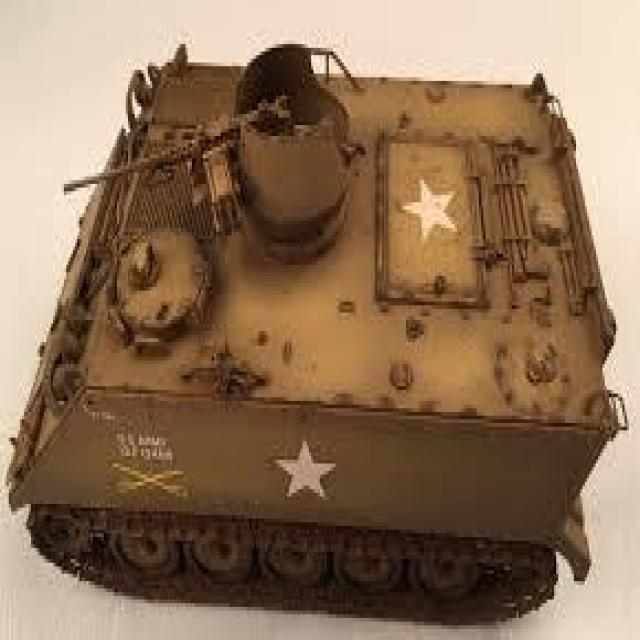MIL_MBT: (7, 42, 614, 627)
